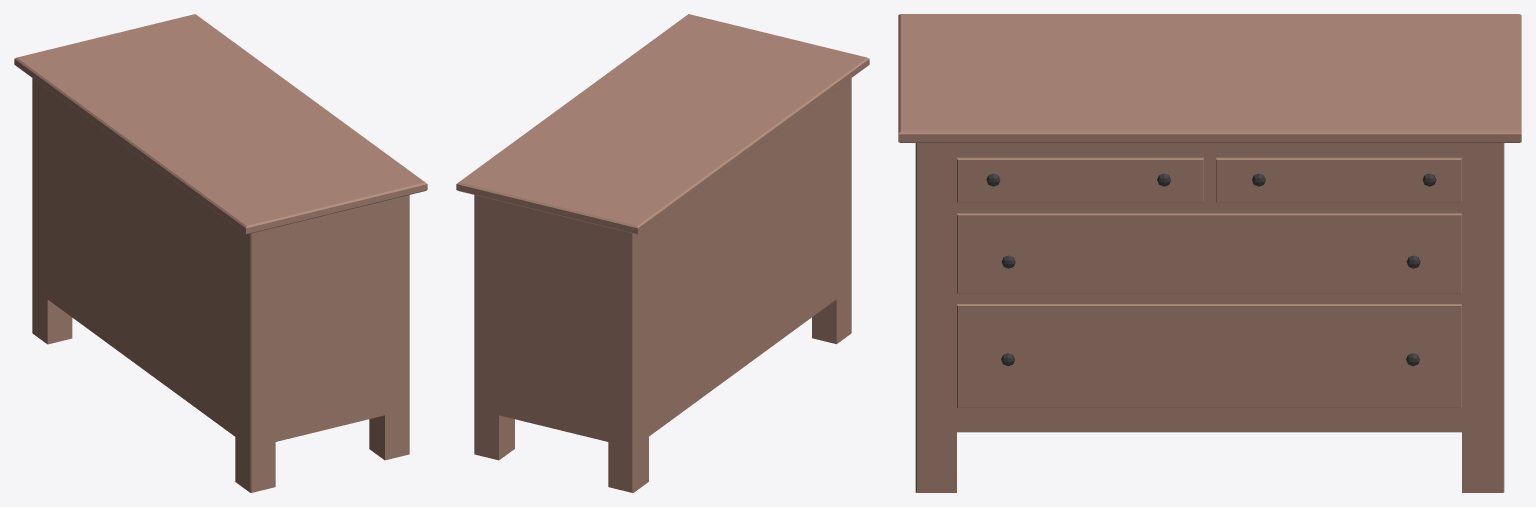
Rendered from cassettiera.fbx.
3 renders of one model, left to right at view 1: azimuth 30°, elevation 25°; view 2: azimuth 150°, elevation 25°; view 3: azimuth 270°, elevation 25°, orthographic. The views are drawn at different scales.
Visible parts, largest first — view 1: Cube; view 2: Cube; view 3: Cube.
Part boxes in pixels (x1,y1,x2,y2): Cube: (14, 14, 427, 492); Cube: (456, 14, 869, 492); Cube: (898, 14, 1521, 492).
Bounding box in the file's own units: 90.5 × 130 × 200.
